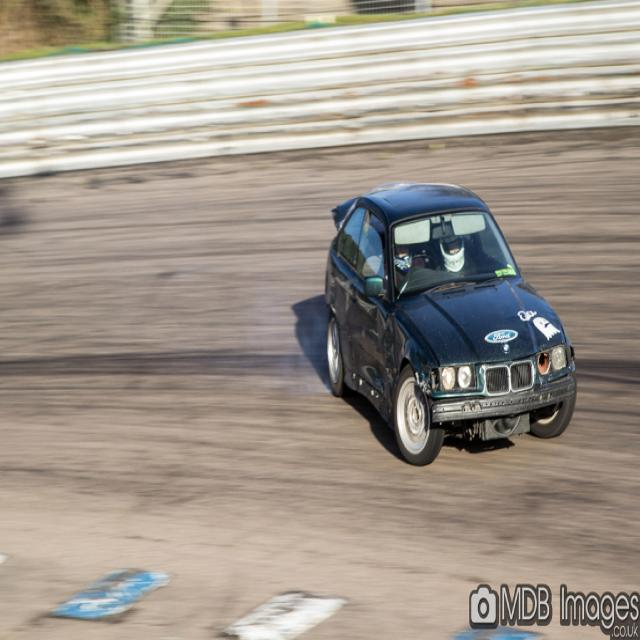car: (314, 180, 580, 470)
